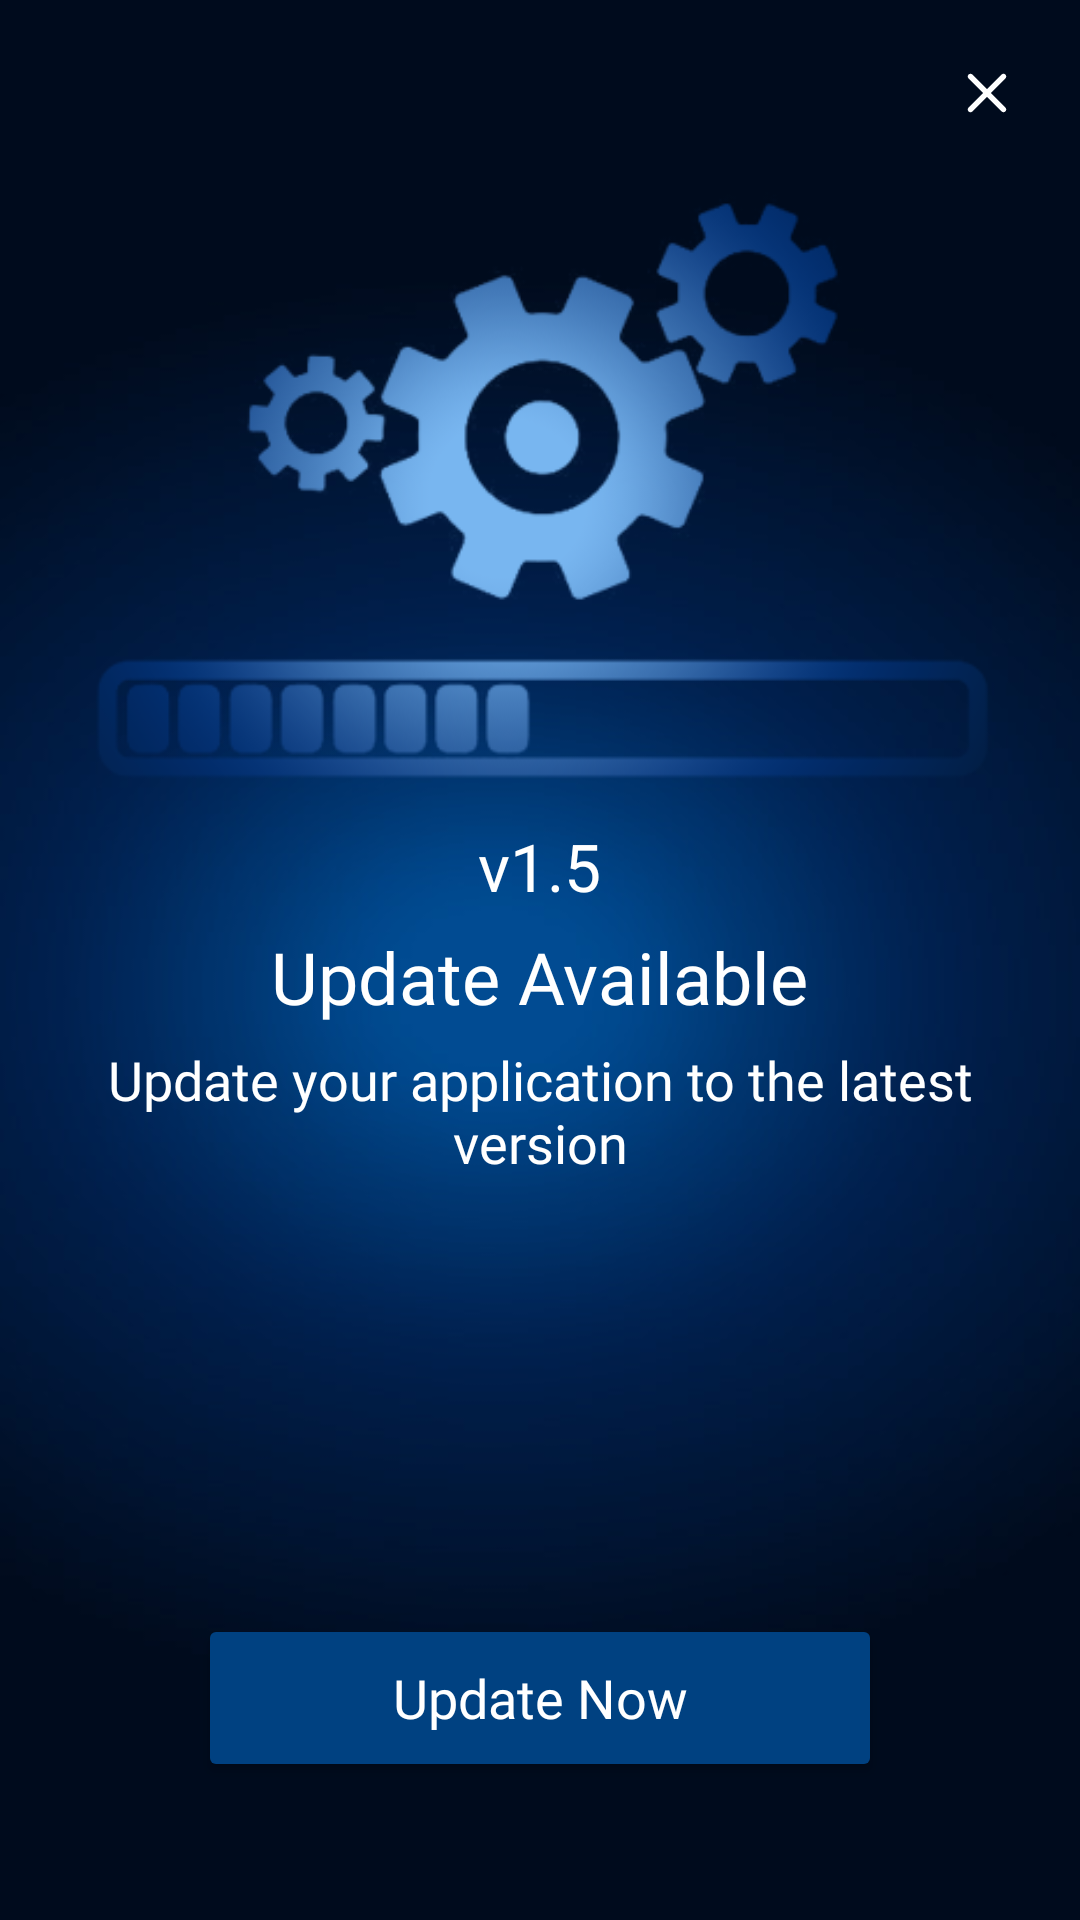

Icons on this 1080×1920 Android screen, each with its box as (x1, y1, x2, y2):
close: (967, 73, 1007, 113)
